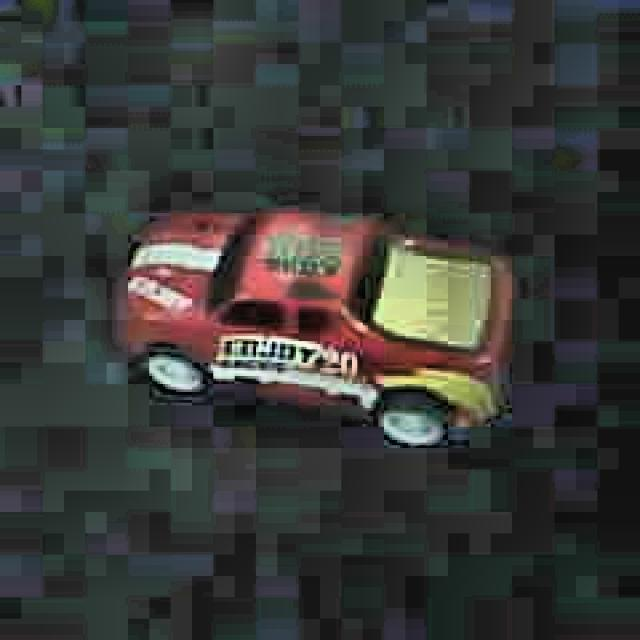car: (113, 199, 524, 456)
